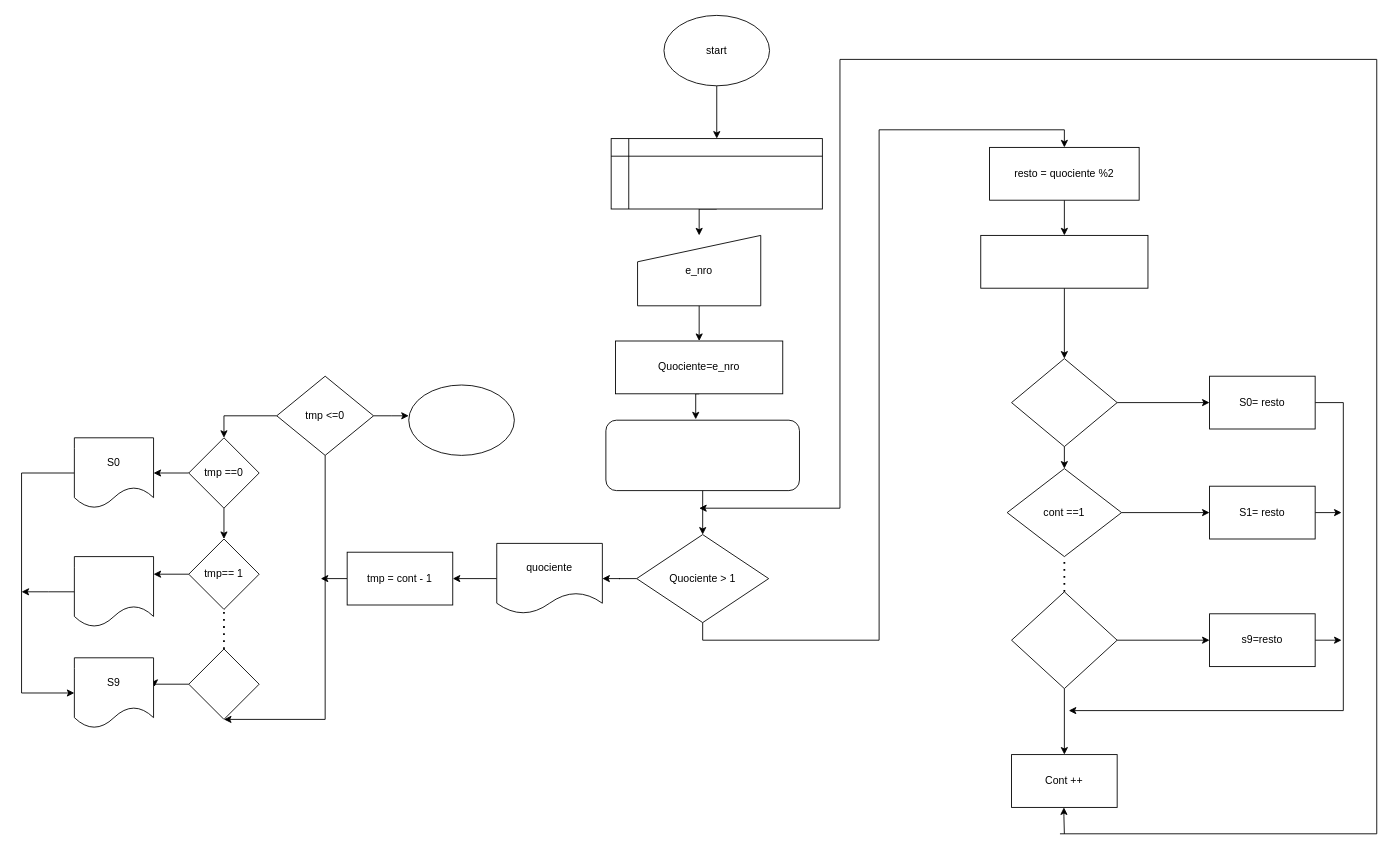
Image size: 1393x856. Some labels were removed from this diagram. Each missing label, with the centre of its shape:
"cont == 0" belongs at pixel 1064 402.
"Cont == 9" belongs at pixel 1064 640.
"cont= 0" belongs at pixel 702 455.
"end" belongs at pixel 461 419.
"int e_nro,s0,s1,s2,s3,s4,s6,s7,s8,s9, quociente resto, cont." belongs at pixel 716 173.
"quociente= quociente/2" belongs at pixel 1064 261.
"S1" belongs at pixel 113 591.
"tmp==9" belongs at pixel 223 683.
